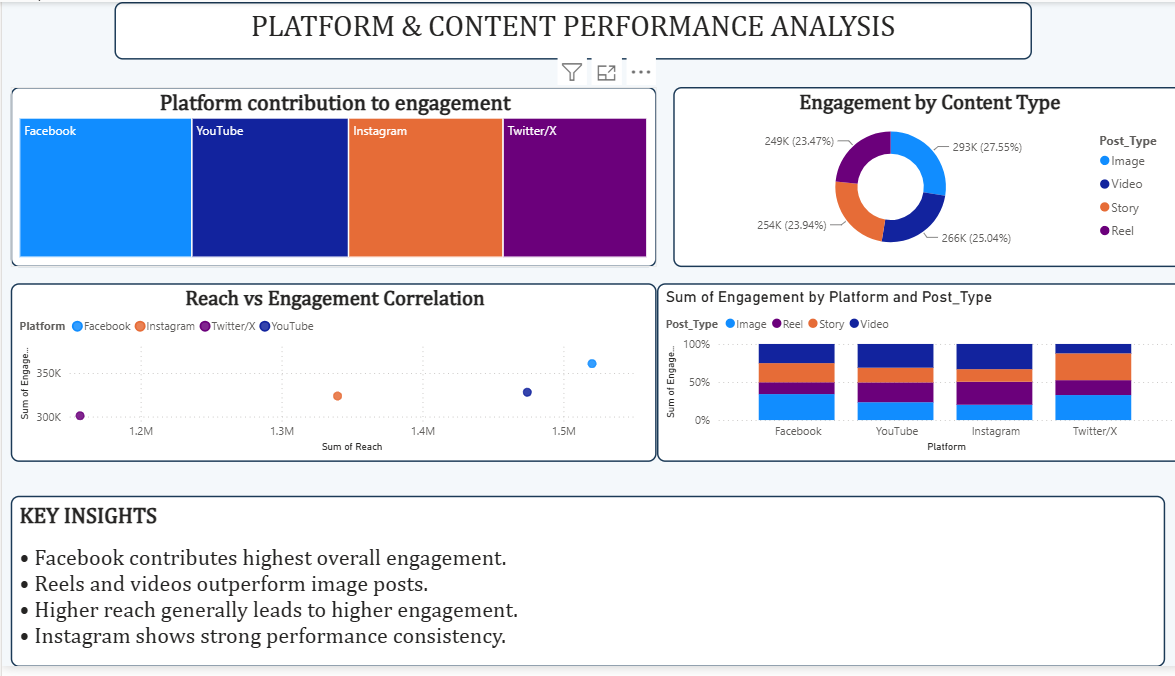

The dashboard page shown, as its layout file describes it:
{"tool":"powerbi","page":{"name":"Page 2","canvas":[1280,720],"ordinal":1},"visuals":[{"type":"textbox","box":[121.9,0,994.4,62.3],"z":0},{"type":"treemap","title":"Platform contribution to engagement","fields":{"Values":["Sum(Dataset.Engagement)"],"Group":["Dataset.Platform"]},"box":[9.6,91.9,699.8,194.9],"z":1000},{"type":"donutChart","title":"Engagement by Content Type","fields":{"Category":["Dataset.Post_Type"],"Y":["Sum(Dataset.Likes)"]},"box":[727.3,91.9,553,194.9],"z":2000},{"type":"scatterChart","title":"Reach vs Engagement Correlation","fields":{"X":["Sum(Dataset.Reach)"],"Y":["Sum(Dataset.Engagement)"],"Series":["Dataset.Platform"]},"box":[9.6,304.6,699.8,193.5],"z":3000},{"type":"hundredPercentStackedColumnChart","fields":{"Category":["Dataset.Platform"],"Series":["Dataset.Post_Type"],"Y":["Sum(Dataset.Engagement)"]},"box":[709.4,304.6,570.8,193.5],"z":4000},{"type":"textbox","box":[9.6,535.2,1251.5,185.2],"z":5000}]}

Visuals, with their boxes in screenshot pixels (x1, y1, x2, y2), scaled from the page's 1280x720 canvas onto the 1175x676 screenshot:
textbox: locate(112, 0, 1025, 58)
"Platform contribution to engagement" treemap: locate(9, 86, 651, 269)
"Engagement by Content Type" donutChart: locate(668, 86, 1174, 269)
"Reach vs Engagement Correlation" scatterChart: locate(9, 286, 651, 468)
hundredPercentStackedColumnChart - Dataset.Platform x Dataset.Post_Type: locate(651, 286, 1174, 468)
textbox: locate(9, 502, 1158, 675)
